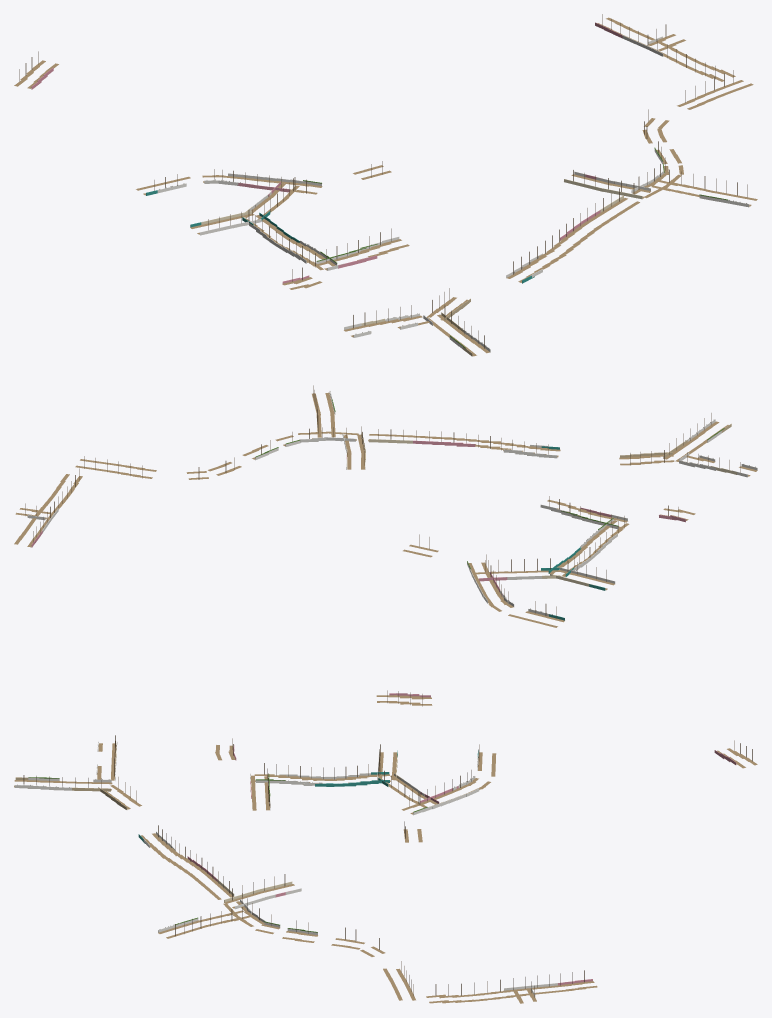
Rendered from noord_res_-13_-12.glb.
The picture shows the model from 3 angles, top to bottom: view 1: azimuth 30°, elevation 25°; view 2: azimuth 150°, elevation 25°; view 3: azimuth 270°, elevation 25°; orthographic projection. The views are drawn at different scales.
Parts seen in each view (by area): view 1: noord_res_-13_-12_lod0; view 2: noord_res_-13_-12_lod0; view 3: noord_res_-13_-12_lod0.
Part boxes in pixels (left/top/right/bottom): noord_res_-13_-12_lod0: left=14, top=14, right=757, bottom=356; noord_res_-13_-12_lod0: left=14, top=385, right=757, bottom=706; noord_res_-13_-12_lod0: left=14, top=735, right=757, bottom=1003.
Size of what is drawn, in the model's own units: 361 by 18.64 by 449.
